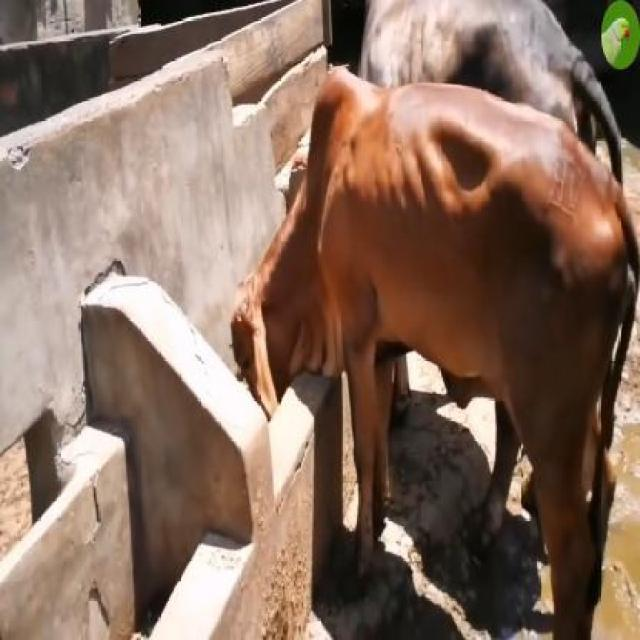Cow: (231, 71, 638, 638)
